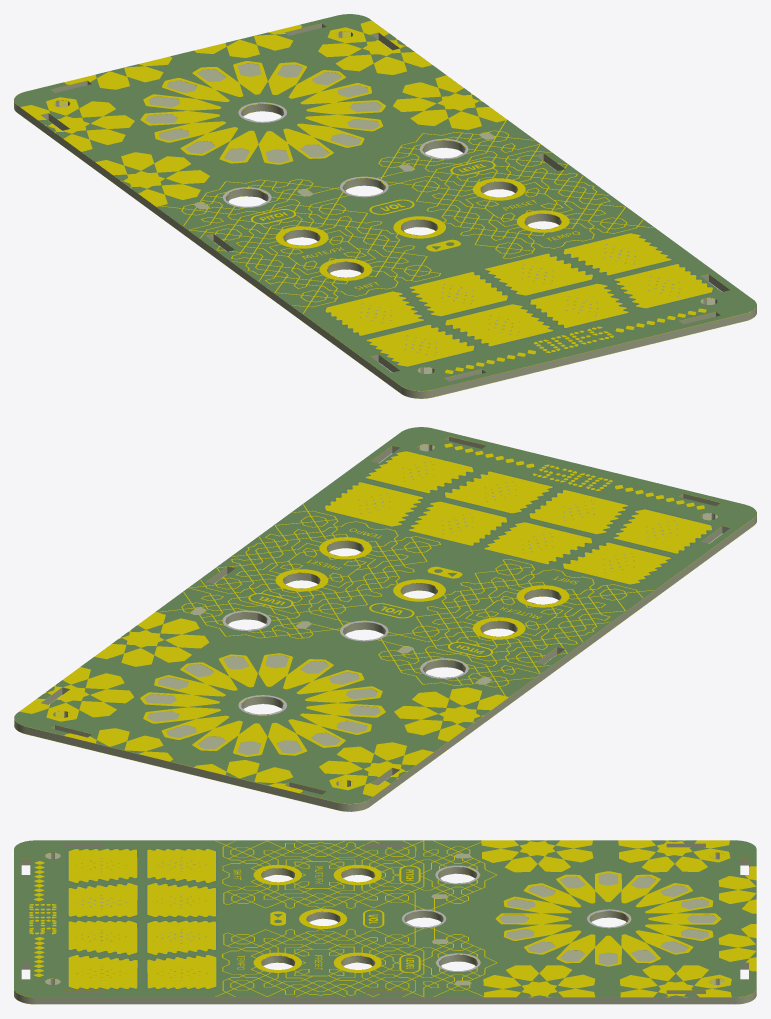
Rendered from panel_lo.glb.
3 renders of one model, top to bottom at view 1: azimuth 30°, elevation 25°; view 2: azimuth 150°, elevation 25°; view 3: azimuth 270°, elevation 25°, orthographic. The views are drawn at different scales.
Parts seen in each view (by area): view 1: =>[0:1:1:2], =>[0:1:1:5], =>[0:1:1:7], =>[0:1:1:3]; view 2: =>[0:1:1:2], =>[0:1:1:5], =>[0:1:1:7], =>[0:1:1:3]; view 3: =>[0:1:1:2], =>[0:1:1:5], =>[0:1:1:7], =>[0:1:1:3].
Part boxes in pixels (x1=…): =>[0:1:1:2]: x1=14, y1=14, x2=756, y2=398; =>[0:1:1:5]: x1=14, y1=14, x2=756, y2=390; =>[0:1:1:7]: x1=14, y1=23, x2=756, y2=398; =>[0:1:1:3]: x1=223, y1=102, x2=468, y2=207; =>[0:1:1:2]: x1=14, y1=427, x2=756, y2=811; =>[0:1:1:5]: x1=14, y1=427, x2=756, y2=803; =>[0:1:1:7]: x1=14, y1=436, x2=756, y2=811; =>[0:1:1:3]: x1=222, y1=610, x2=468, y2=715; =>[0:1:1:2]: x1=14, y1=840, x2=756, y2=1004; =>[0:1:1:5]: x1=14, y1=840, x2=756, y2=997; =>[0:1:1:7]: x1=14, y1=843, x2=756, y2=1004; =>[0:1:1:3]: x1=402, y1=865, x2=631, y2=971.
Size of the model in its own units: 0.0751 by 0.00164 by 0.1501.
